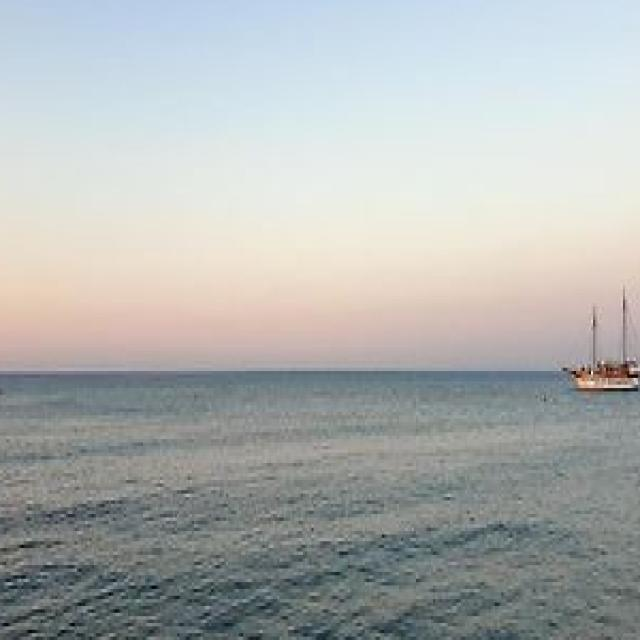fishing boat: (555, 282, 640, 405)
